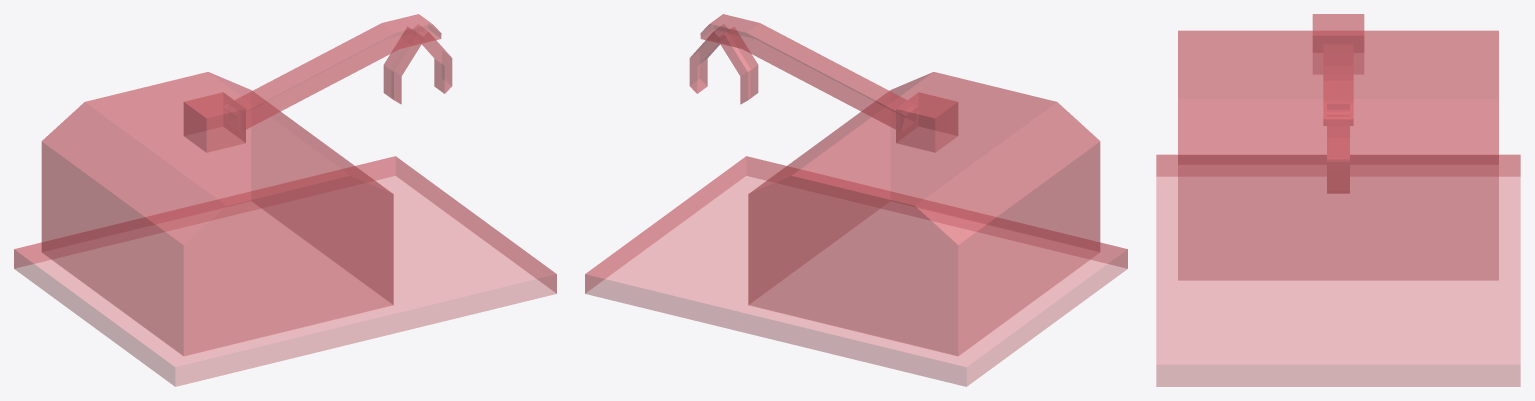
Rendered from vehicle_depot.gltf.
The picture shows the model from 3 angles, left to right: view 1: azimuth 30°, elevation 25°; view 2: azimuth 150°, elevation 25°; view 3: azimuth 270°, elevation 25°; orthographic projection. The views are drawn at different scales.
Parts seen in each view (by area): view 1: Garage, Base, Cube.002, Crane, Cube.003, Cube.004; view 2: Garage, Base, Cube.002, Crane, Cube.003, Cube.004; view 3: Base, Garage, Crane, Cube.002, Cube.004, Cube.003.
Part boxes in pixels (x1,y1,x2,y2): Garage: (41,72,393,355); Base: (14,156,556,386); Cube.002: (223,14,441,131); Crane: (183,92,245,152); Cube.003: (383,27,424,104); Cube.004: (412,24,452,93); Garage: (748,72,1100,355); Base: (585,156,1127,386); Cube.002: (700,14,918,131); Crane: (896,92,958,152); Cube.003: (717,27,758,104); Cube.004: (689,24,728,93); Base: (1156,154,1520,386); Garage: (1178,30,1498,280); Crane: (1312,14,1364,74); Cube.002: (1323,44,1353,125); Cube.004: (1327,109,1349,193); Cube.003: (1327,104,1349,169).
Size of the model in its own units: 60.25 by 34.44 by 44.12.
